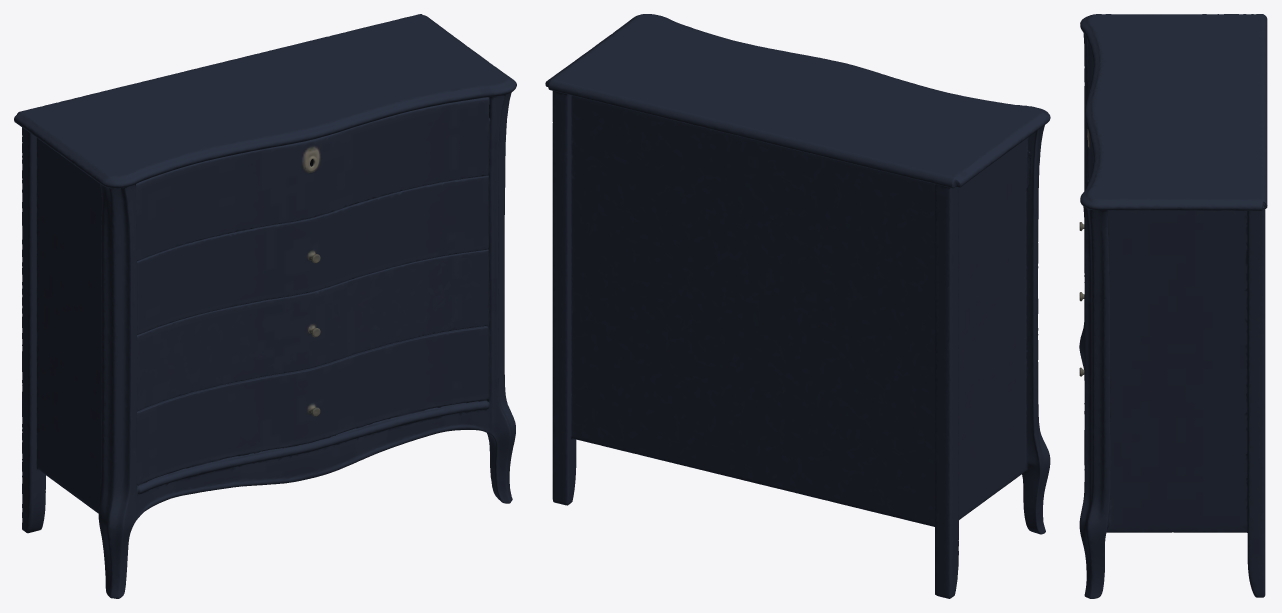
The model's file is office-chair.glb.
The picture shows the model from 3 angles, left to right: view 1: azimuth 30°, elevation 25°; view 2: azimuth 150°, elevation 25°; view 3: azimuth 270°, elevation 25°; orthographic projection. The views are drawn at different scales.
Visible parts, largest first — view 1: world; view 2: world; view 3: world.
Part boxes in pixels (x1,y1,x2,y2): world: (14, 14, 516, 598); world: (545, 14, 1050, 598); world: (1079, 14, 1267, 598).
Bounding box in the file's own units: 1 × 0.9723 × 0.4149.
Materials: 1 (1 with a texture image).
